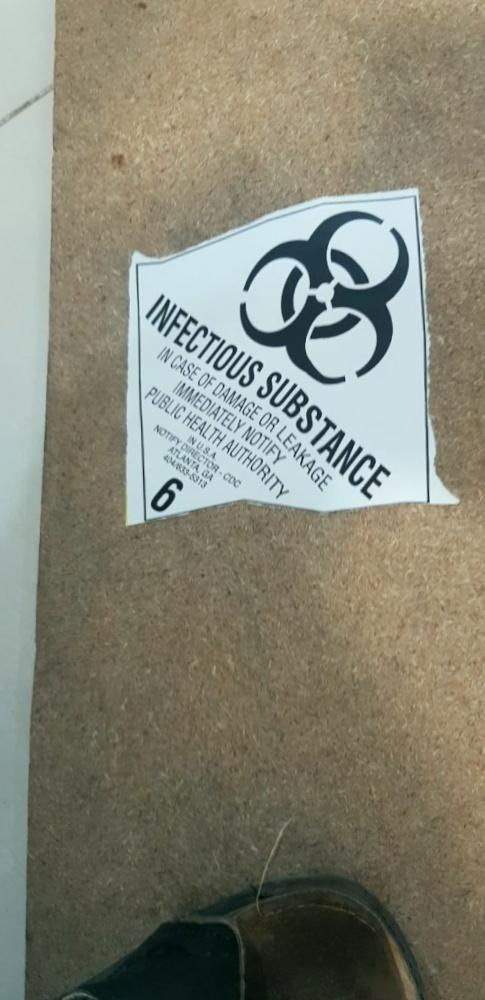infectious-substance: (133, 197, 420, 519)
